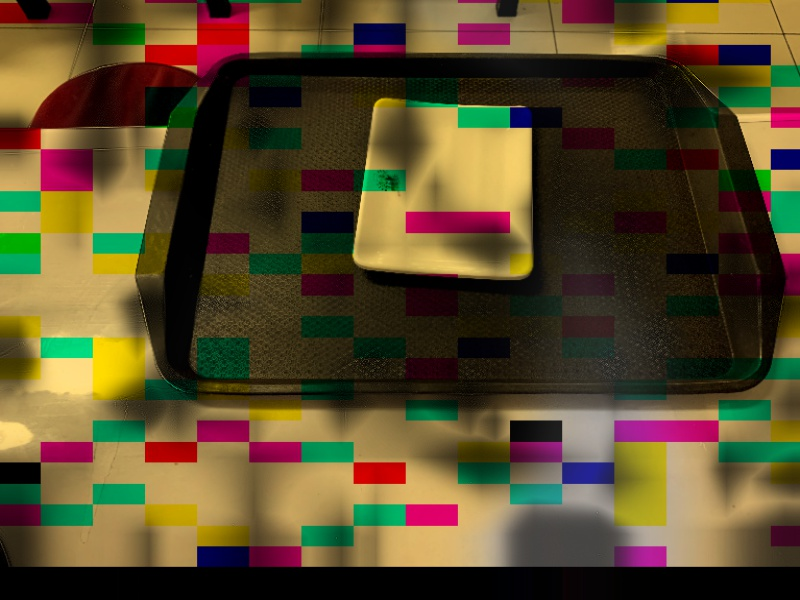dish4: (344, 92, 541, 286)
